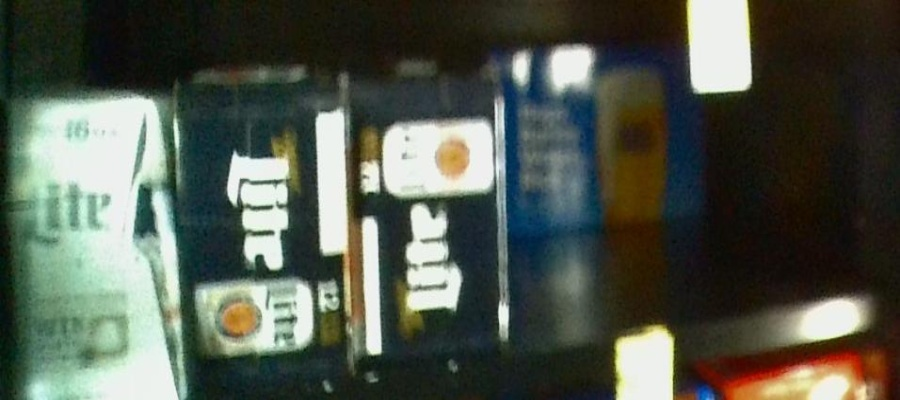bottle: (176, 70, 362, 392), (1, 90, 170, 400), (353, 61, 506, 354), (505, 40, 714, 222)
